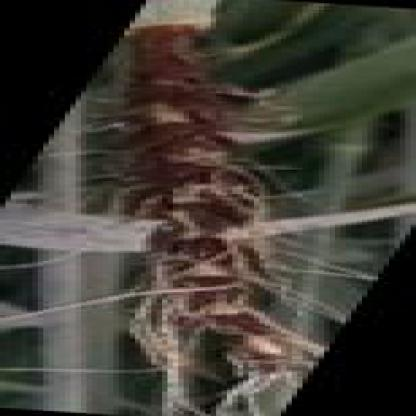Wheat Smut: (161, 250, 259, 320), (145, 166, 256, 206), (161, 207, 262, 246), (127, 82, 219, 121), (130, 28, 198, 79), (127, 129, 230, 159), (244, 327, 292, 353), (139, 330, 187, 350)
